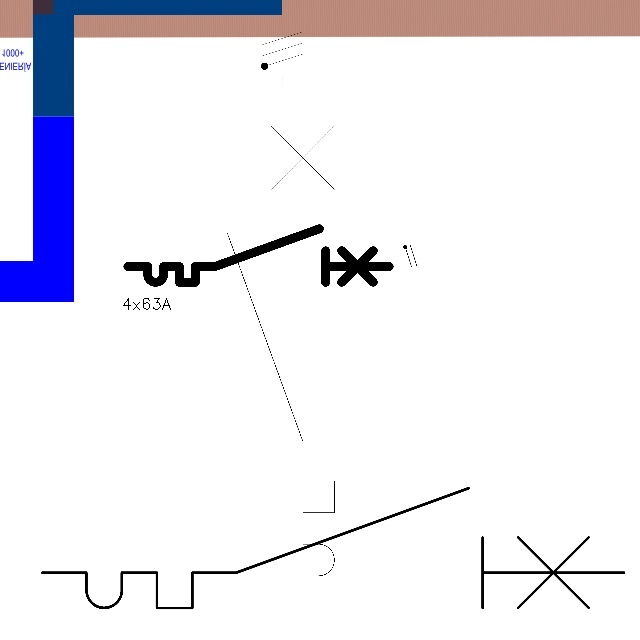interruptor_termomagnetico: (27, 473, 639, 623), (214, 80, 348, 628), (121, 222, 396, 289)
